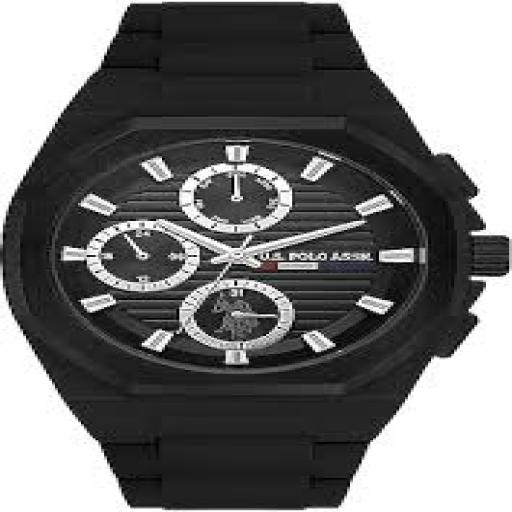KolSaati: (2, 3, 504, 509)
